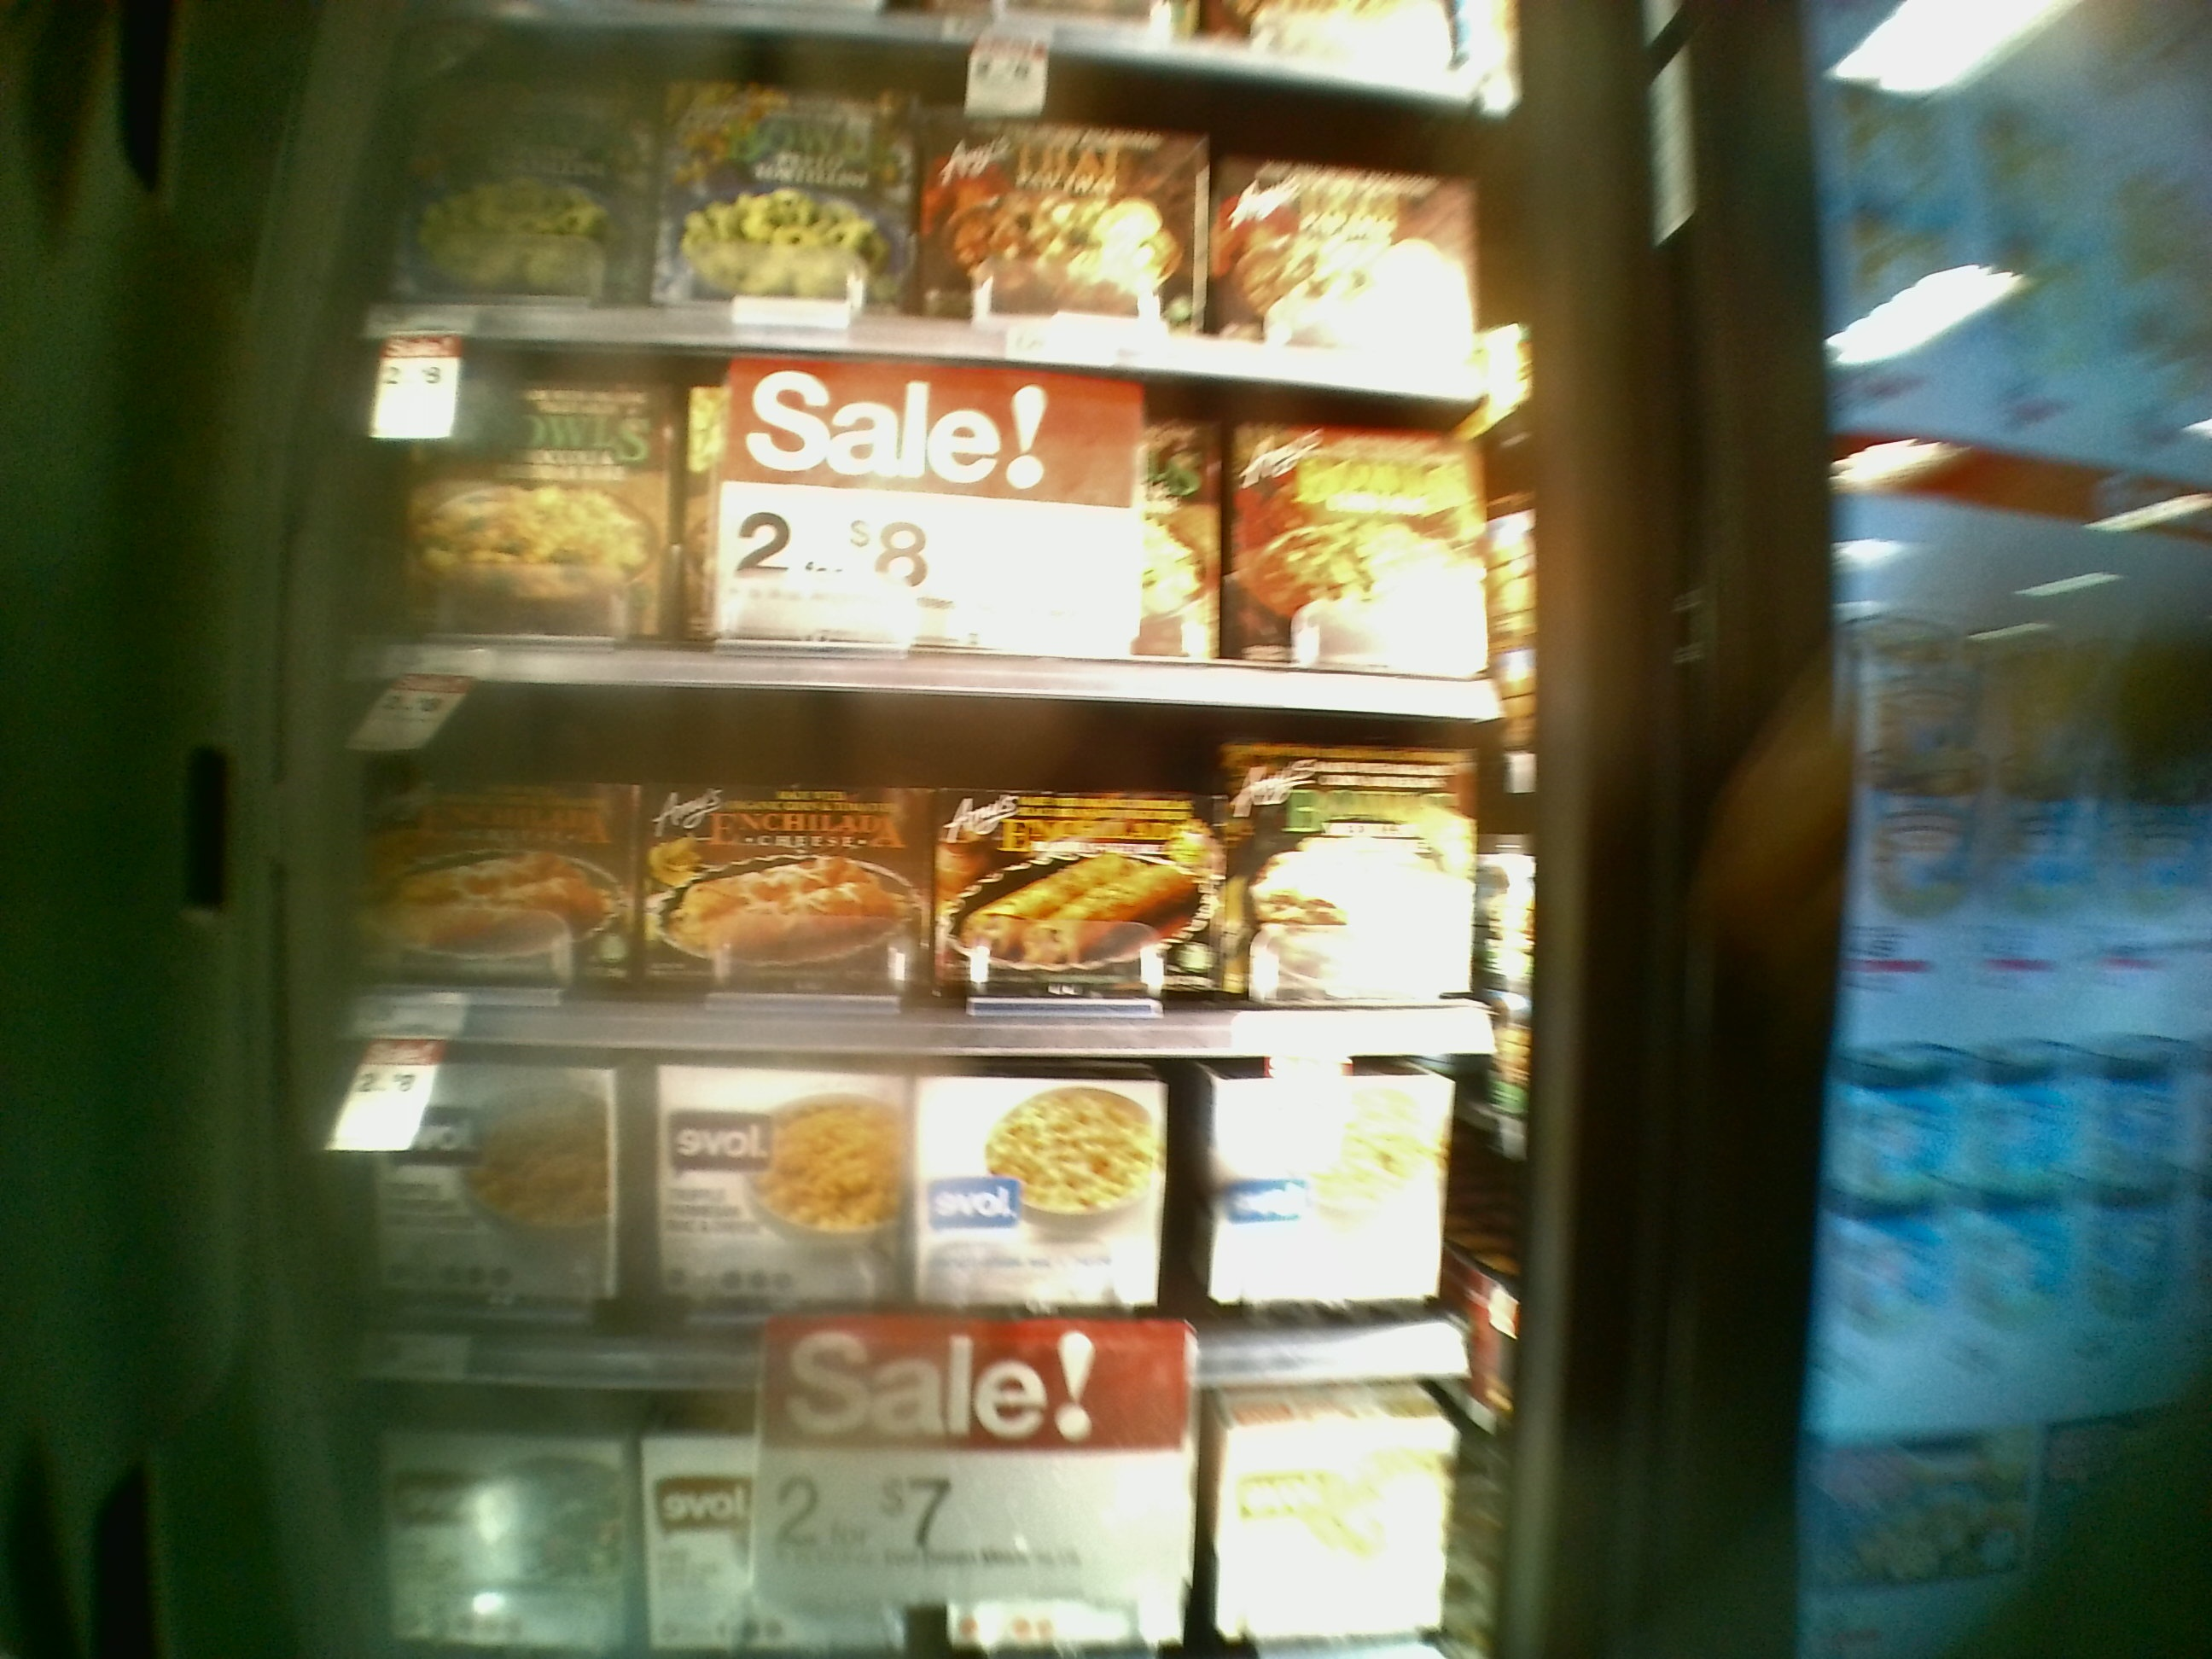shelf: (374, 335, 1505, 723), (366, 690, 1507, 1072), (368, 1042, 1522, 1417), (387, 9, 1507, 362)
